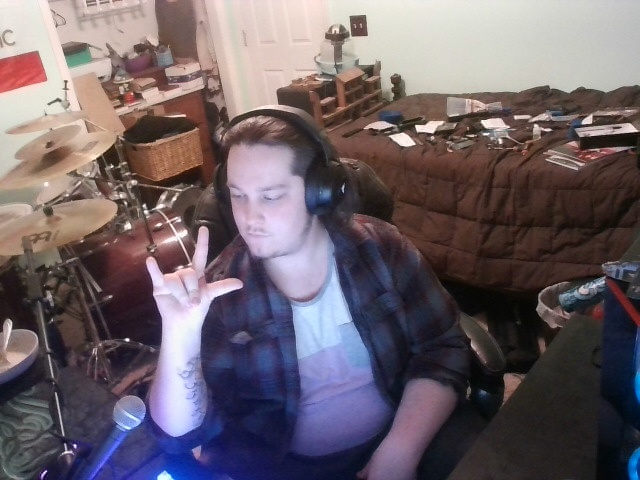i_love_you: (116, 220, 250, 327)
